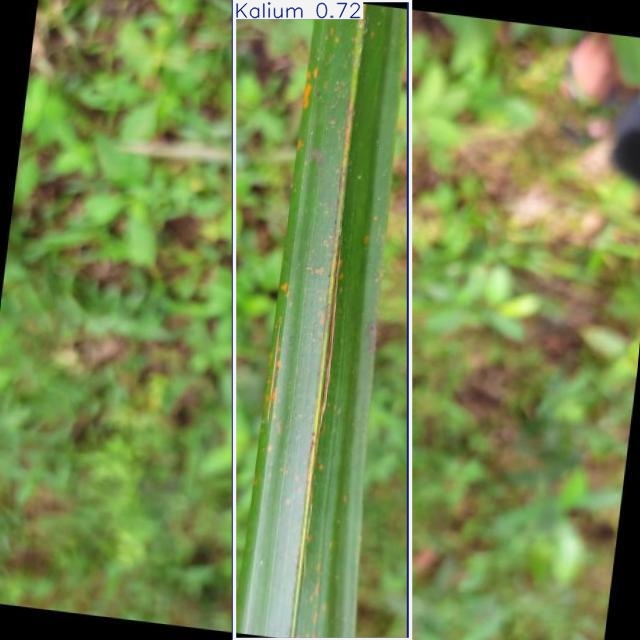Kalium: (235, 1, 410, 640)
nitrogen: (233, 1, 408, 640)
